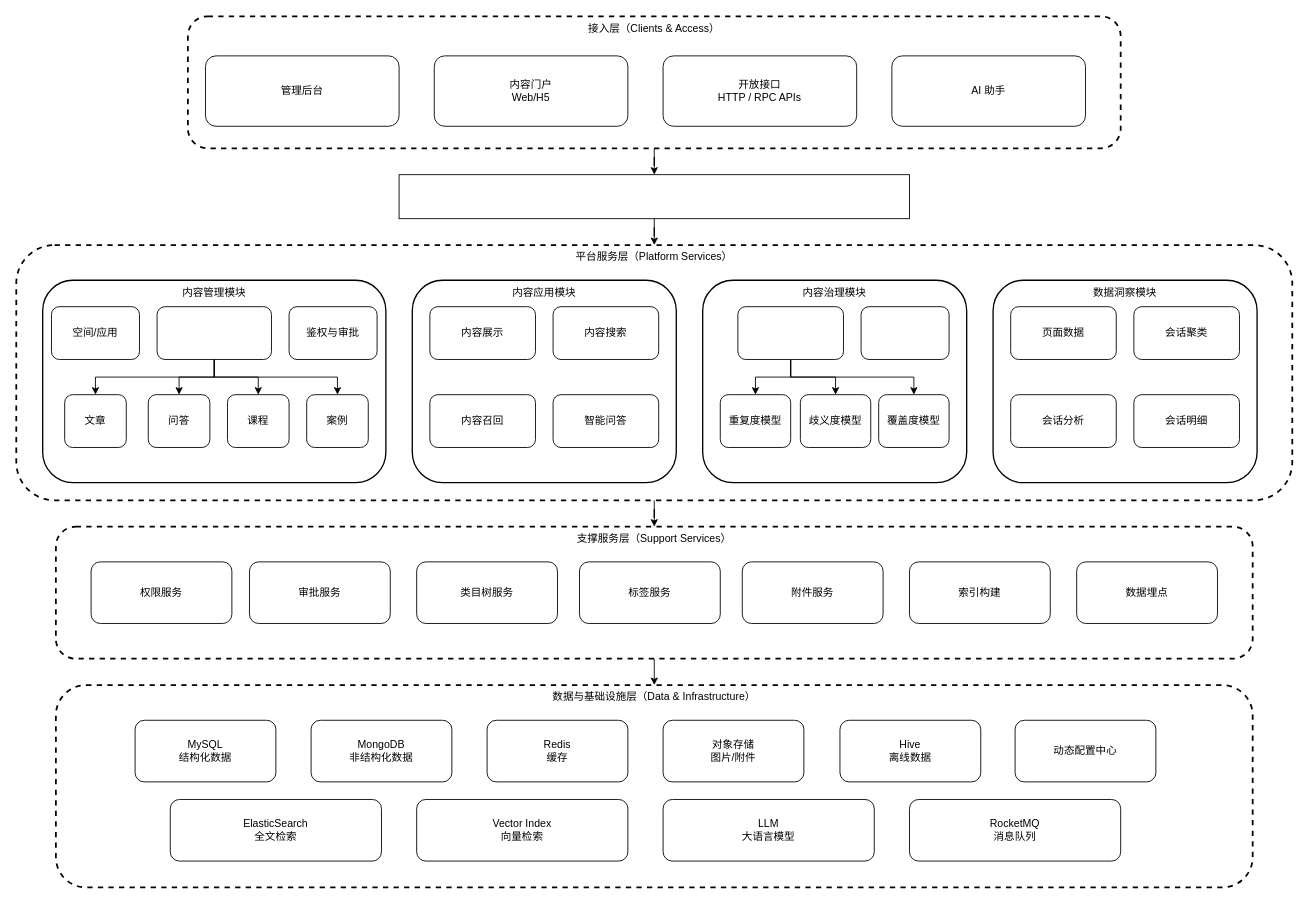
Some shapes in this 1308 by 903 pixel diagram are drawn without their labels. The shapes that lost their labels are listed below. From the top down, each one's centre as x and y in pixels, then its label:
At point 653,196: "API网关".
At point 213,332: "统一内容服务".
At point 790,332: "治理模型".
At point 904,332: "治理任务".
